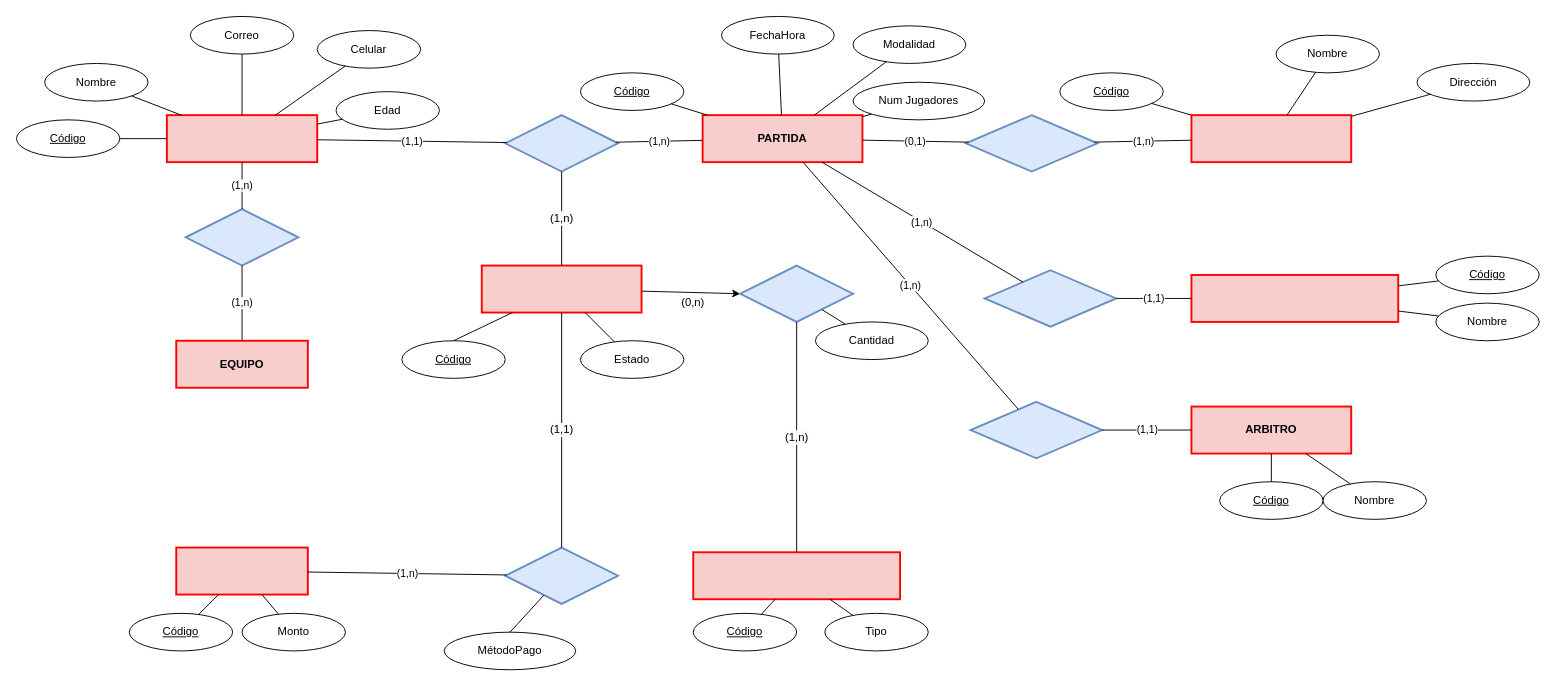
Image size: 1556x686. Some labels were removed from this diagram. Each missing label, with the centre of its shape:
Administra: the point at 1050,298
ADMINISTRADOR: the point at 1294,298
Agenda: the point at 561,143
Alquila: the point at 796,293
Arbitra: the point at 1036,429
CAMPO: the point at 1271,138
Confirmada: the point at 561,575
EQUIPAMIENTO: the point at 796,575
JUGADOR: the point at 241,138
PAGO: the point at 241,570
Pertenece: the point at 241,237
RESERVA: the point at 561,288
SeJuegaEn: the point at 1031,143
